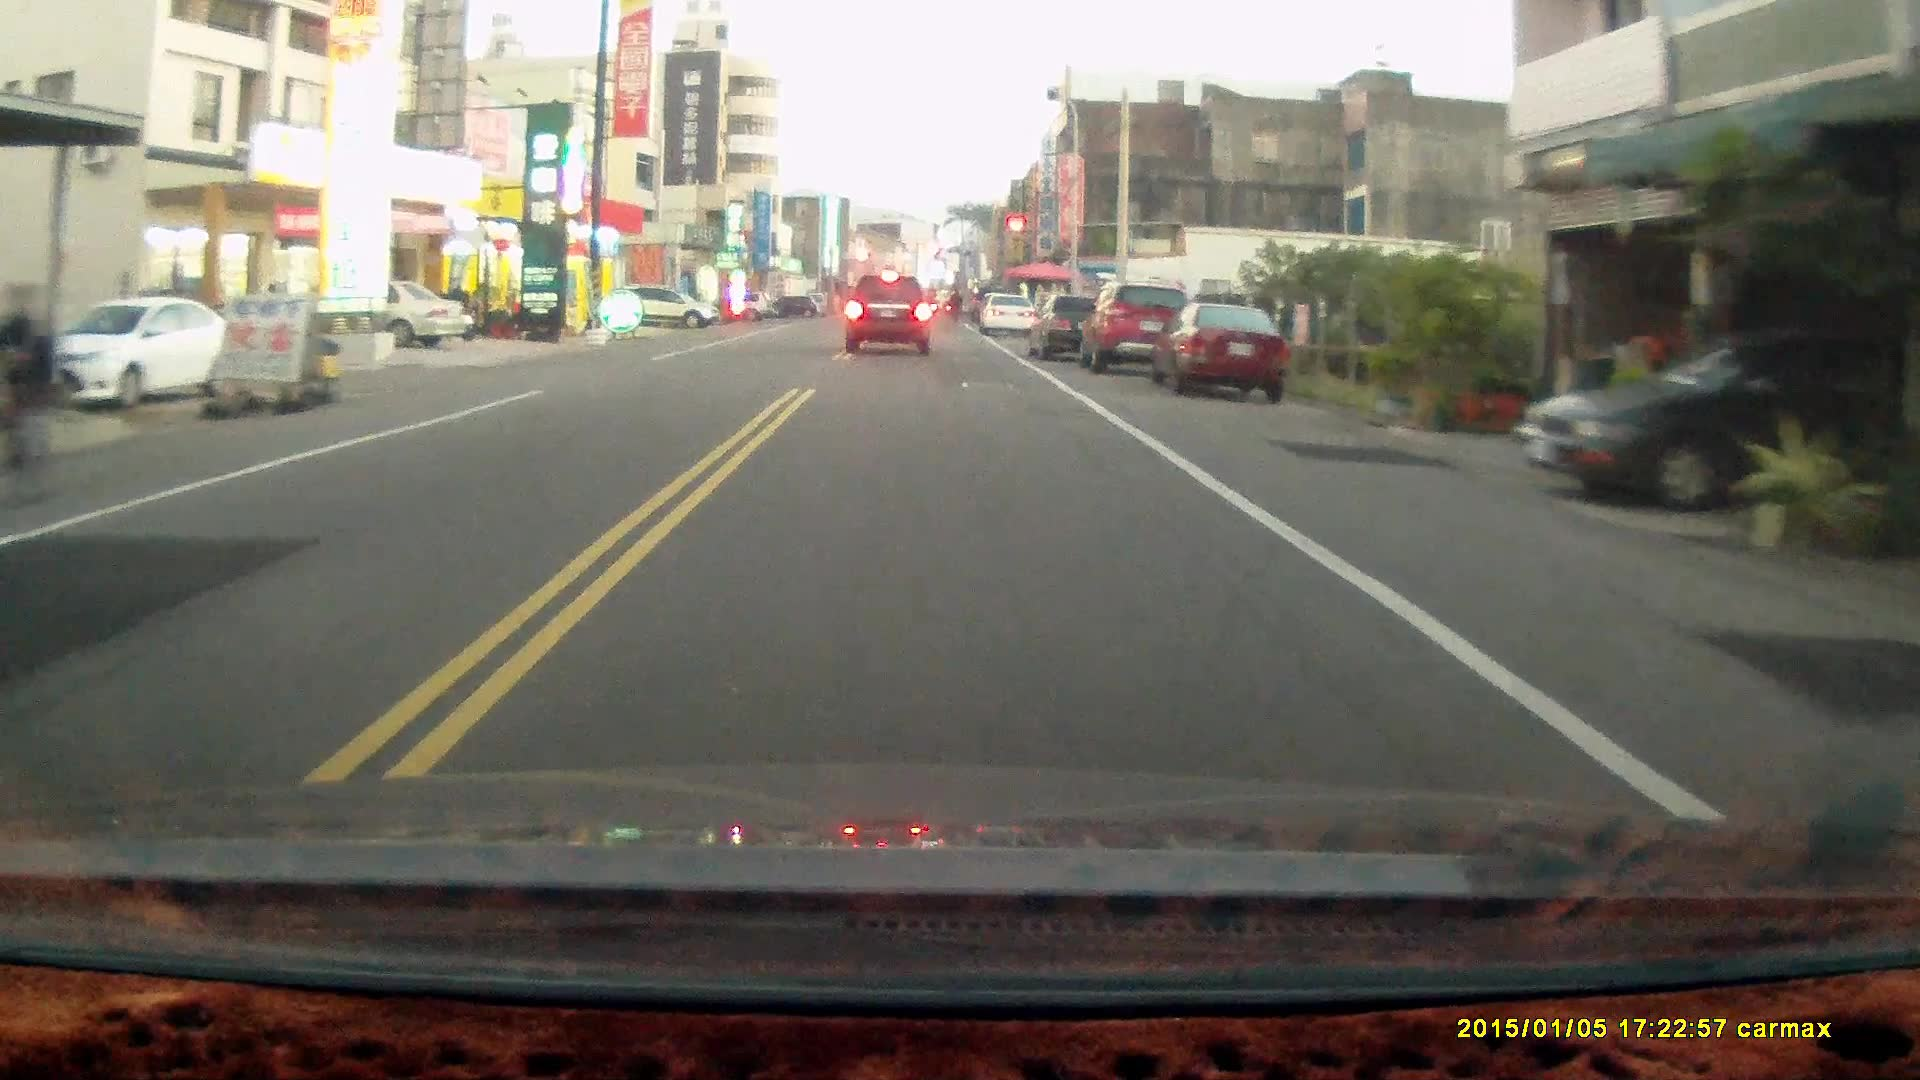rider: (0, 282, 60, 541)
vehicle: (1515, 326, 1920, 510), (18, 297, 251, 411), (1147, 300, 1295, 402), (292, 280, 470, 354), (1081, 279, 1193, 374), (844, 276, 933, 359), (1028, 292, 1131, 359), (622, 286, 718, 333), (979, 291, 1039, 339)
